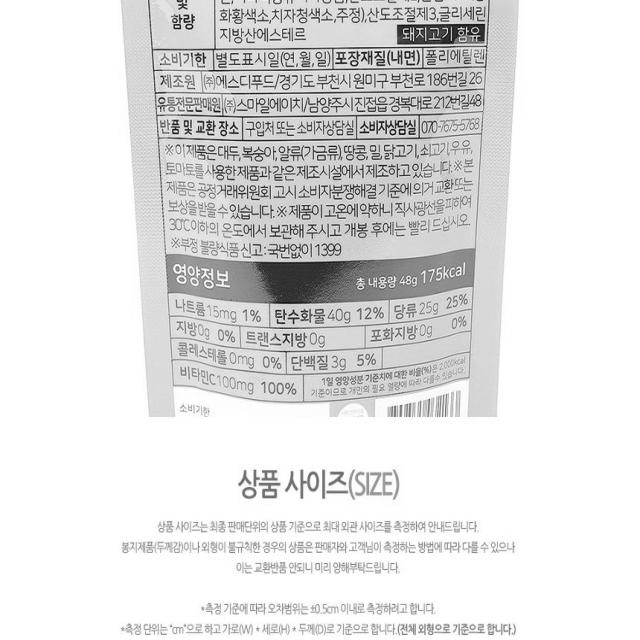Nutrition Label: (158, 253, 484, 408)
